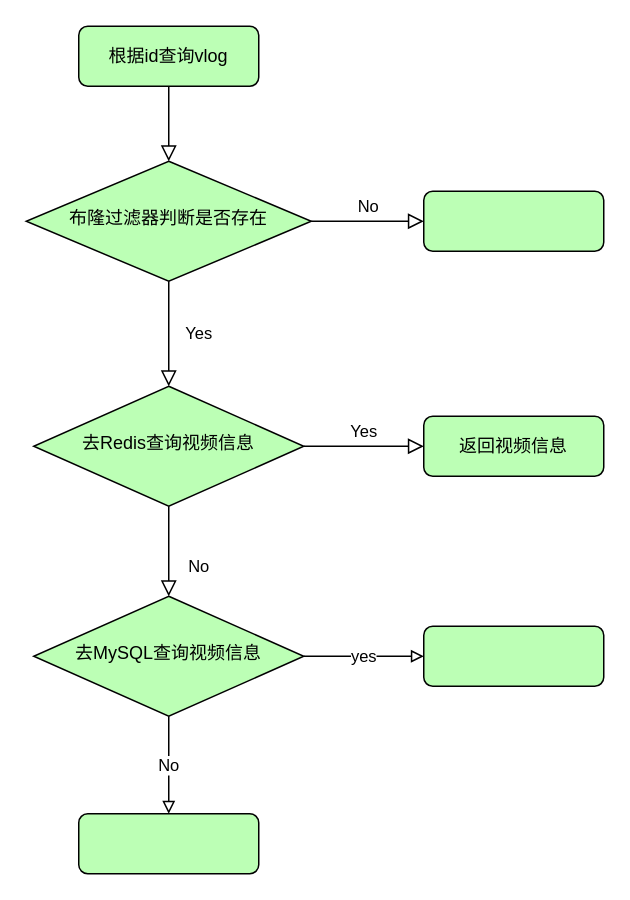
Some shapes in this 630 by 900 pixel diagram are drawn without their labels. Each missing label, with the centre of its shape:
直接返回视频不存在: [513,220]
返回视频不存在，并缓存空值到Redis: [168,843]
返回视频信息，并保存到Redis: [513,655]
